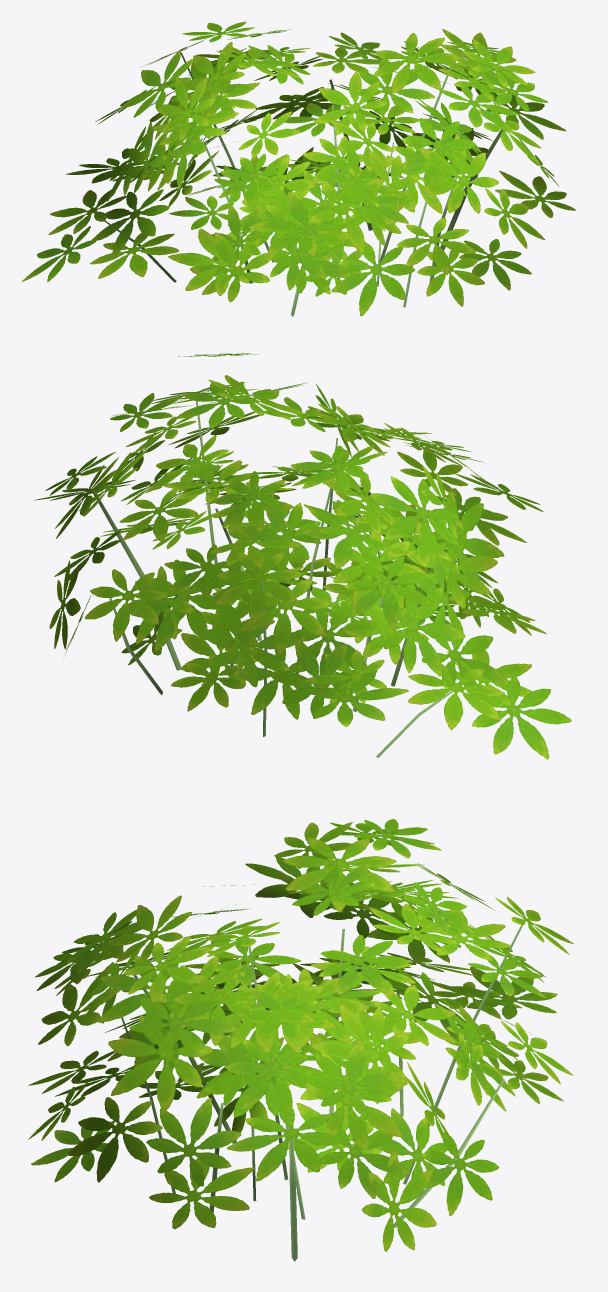
Rendered from P_BushTropical03.obj.
3 views of the same model, one above another, from view 1: azimuth 30°, elevation 25°; view 2: azimuth 150°, elevation 25°; view 3: azimuth 270°, elevation 25° (orthographic). The views are drawn at different scales.
Bounding box in the file's own units: 4.12 × 1.92 × 3.11.
